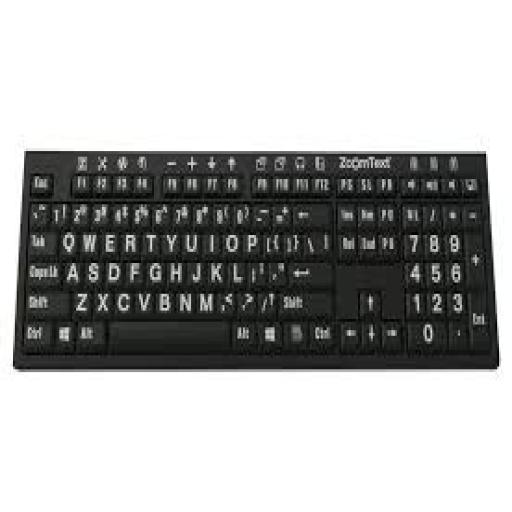keyboard: (12, 143, 502, 372)
